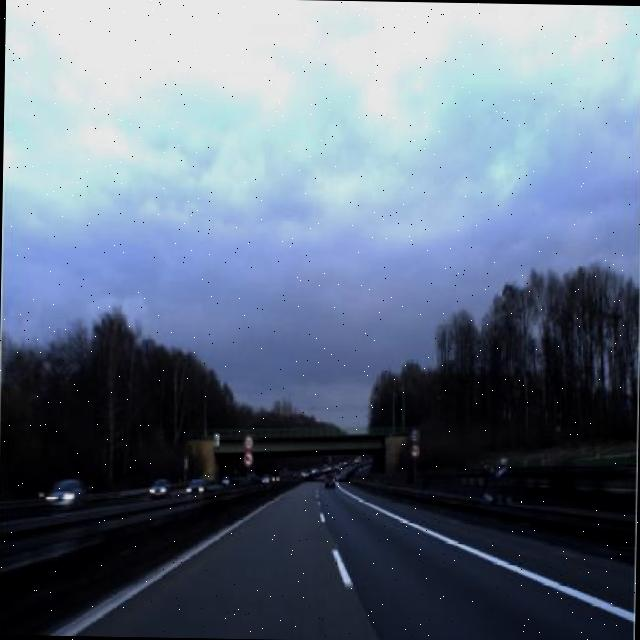Ograniczenie predkosci do 120: (242, 433, 254, 453), (408, 424, 420, 444)
Zakaz wyprzedzania: (408, 439, 422, 458), (241, 448, 254, 468)
